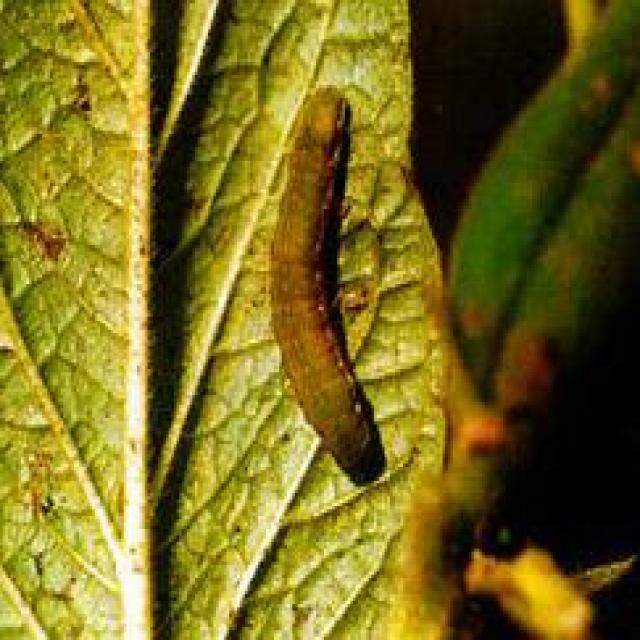armyworm: (277, 65, 402, 481)
